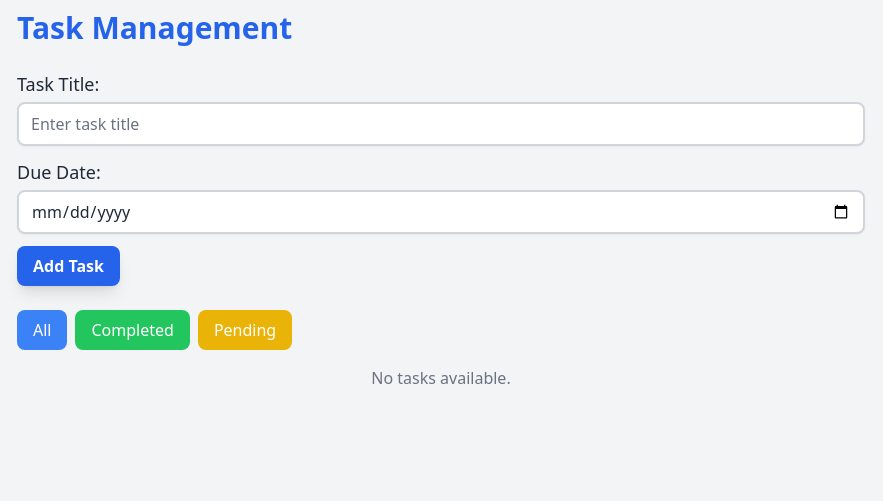
Test: HomePage Integration Tests › deletes a task and updates the task list state
The image size is (883, 501).
Type "Task to Delete" into the field with placeholder "Enter task title" at (441, 124), box [17,102,865,146]
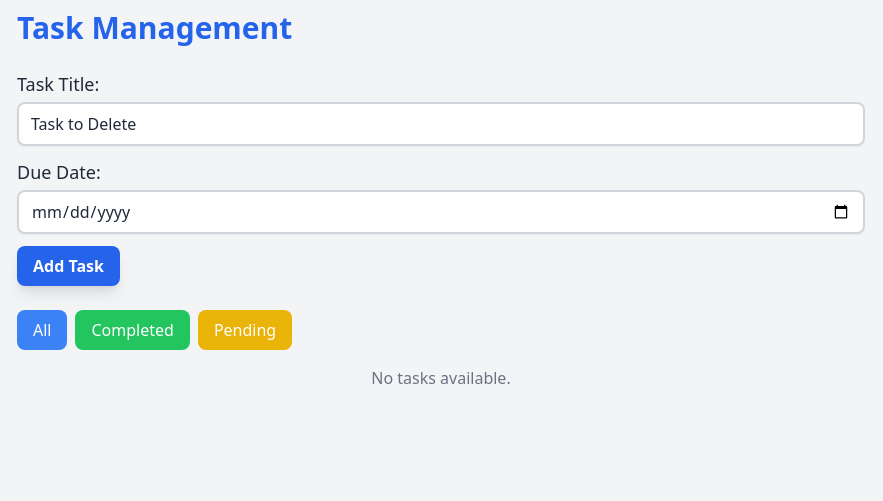
Type "2024-09-12" into the date field labelled "Due Date:" at (441, 212), box [17,190,865,234]
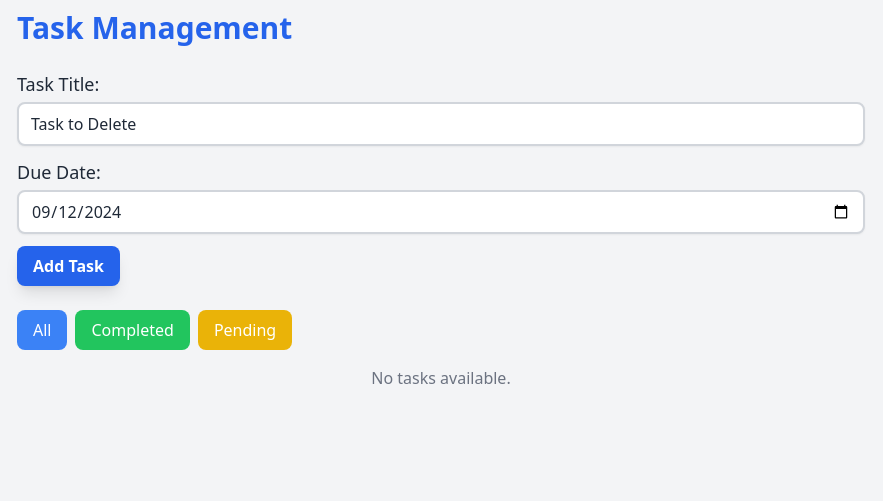
Click the button "Add Task" at (68, 266), box [17,246,120,286]
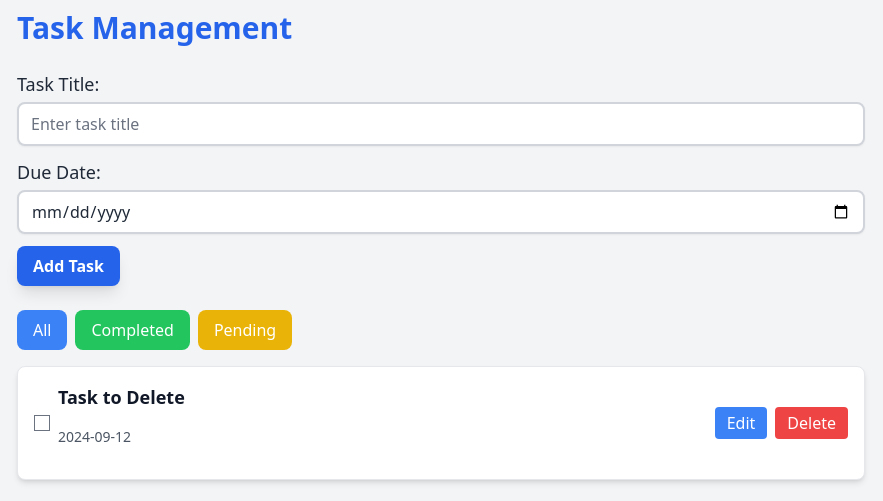
Click the button "Delete" at (812, 423), box [775,407,848,439]
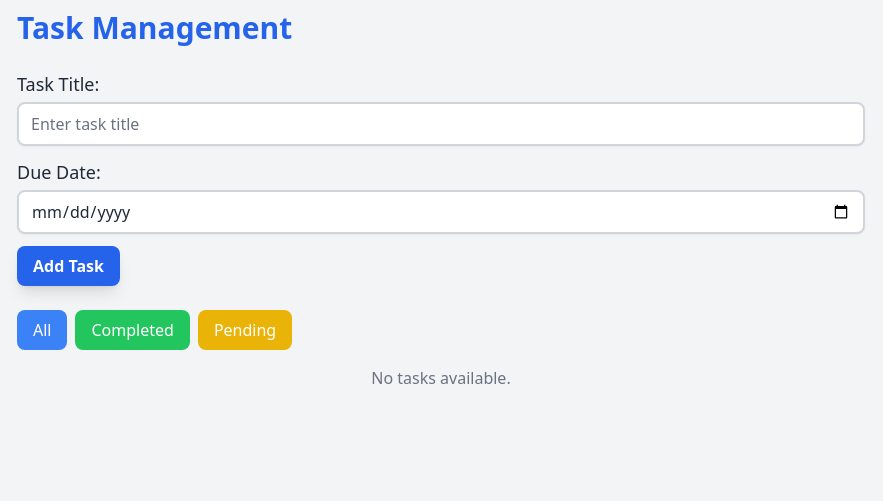
Now the text "Task to Delete" is gone
